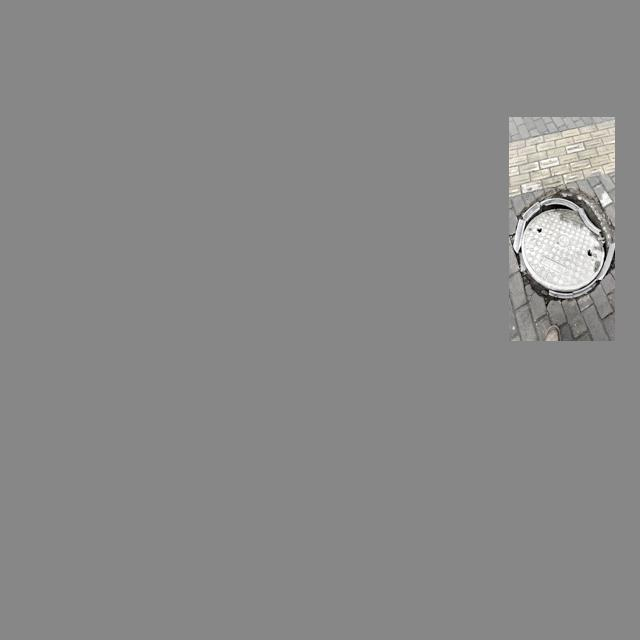circle: (510, 187, 613, 304)
